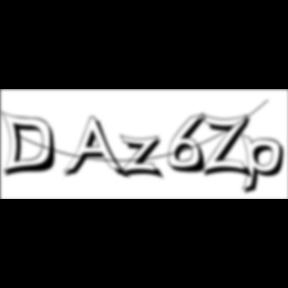6: (168, 112, 214, 176)
A: (62, 116, 132, 182)
D: (0, 110, 64, 180)
Z: (201, 112, 256, 181)
z: (120, 134, 168, 182)
